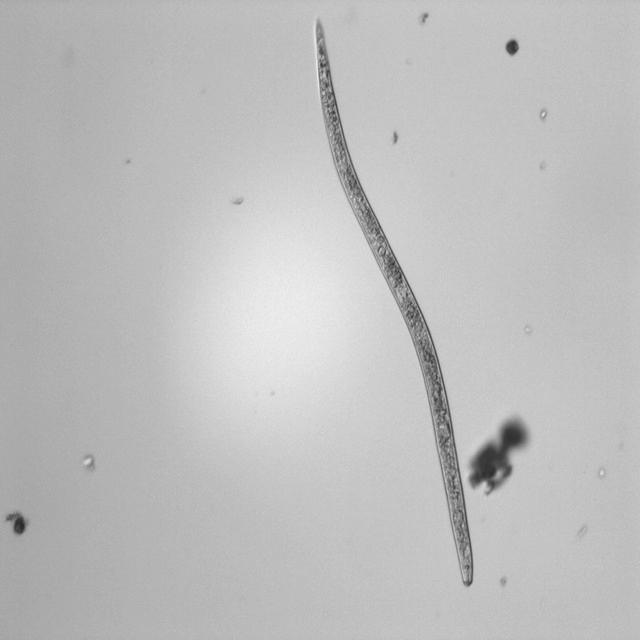Radopholus: (314, 17, 482, 588)
